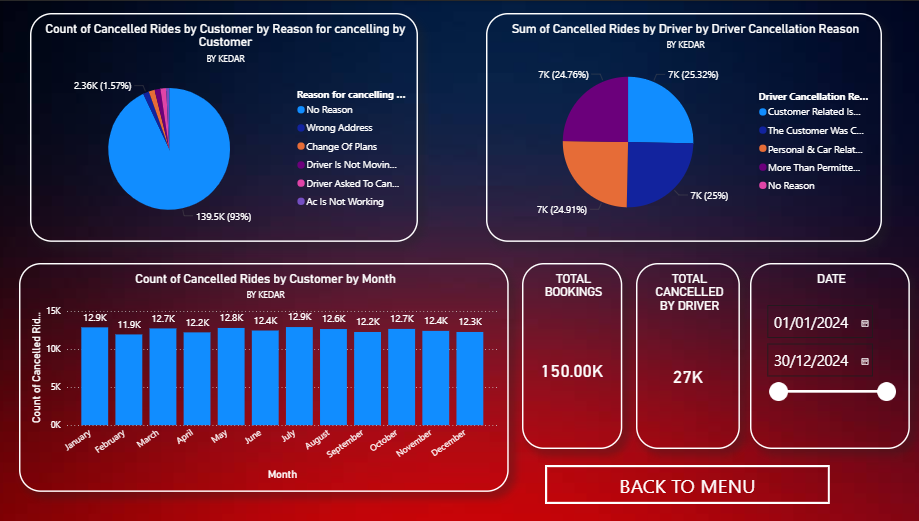

The page's visual inventory and layout, read from the dashboard file:
{"tool":"powerbi","page":{"name":"Page 3","canvas":[1280,720],"ordinal":2},"visuals":[{"type":"pieChart","fields":{"Category":["ncr_ride_bookings.Reason for cancelling by Customer"],"Y":["CountNonNull(ncr_ride_bookings.Cancelled Rides by Customer)"]},"box":[53.7,16.5,534,315.2],"z":0},{"type":"pieChart","fields":{"Y":["Sum(ncr_ride_bookings.Cancelled Rides by Driver)"],"Category":["ncr_ride_bookings.Driver Cancellation Reason"]},"box":[681.3,16.5,545,315.2],"z":1000},{"type":"columnChart","fields":{"Y":["CountNonNull(ncr_ride_bookings.Cancelled Rides by Customer)"],"Category":["ncr_ride_bookings.Date.Variation.Date Hierarchy.Month"]},"box":[38.5,360.6,674.4,315.2],"z":2000},{"type":"card","title":"TOTAL BOOKINGS","fields":{"Values":["CountNonNull(ncr_ride_bookings.Customer ID)"]},"box":[730.8,360.6,137.6,256],"z":3000},{"type":"card","title":"TOTAL CANCELLED BY DRIVER","fields":{"Values":["Sum(ncr_ride_bookings.Cancelled Rides by Driver)"]},"box":[887.7,360.6,143.1,256],"z":4000},{"type":"actionButton","box":[762.5,638.6,392.3,53.7],"z":5000},{"type":"slicer","title":"DATE","fields":{"Values":["ncr_ride_bookings.Date"]},"box":[1044.6,360.6,220.2,256],"z":6000}]}

Visuals, with their boxes in screenshot pixels (x1, y1, x2, y2), scaled from the page's 1280x720 canvas onto the 919x521 screenshot:
pieChart - ncr_ride_bookings.Reason for cancelling by Customer x CountNonNull(ncr_ride_bookings.Cancelled Rides by Customer): bbox(39, 12, 422, 240)
pieChart - Sum(ncr_ride_bookings.Cancelled Rides by Driver) x ncr_ride_bookings.Driver Cancellation Reason: bbox(489, 12, 880, 240)
columnChart - CountNonNull(ncr_ride_bookings.Cancelled Rides by Customer) x ncr_ride_bookings.Date.Variation.Date Hierarchy.Month: bbox(28, 261, 512, 489)
"TOTAL BOOKINGS" card: bbox(525, 261, 623, 446)
"TOTAL CANCELLED BY DRIVER" card: bbox(637, 261, 740, 446)
actionButton: bbox(547, 462, 829, 501)
"DATE" slicer: bbox(750, 261, 908, 446)
